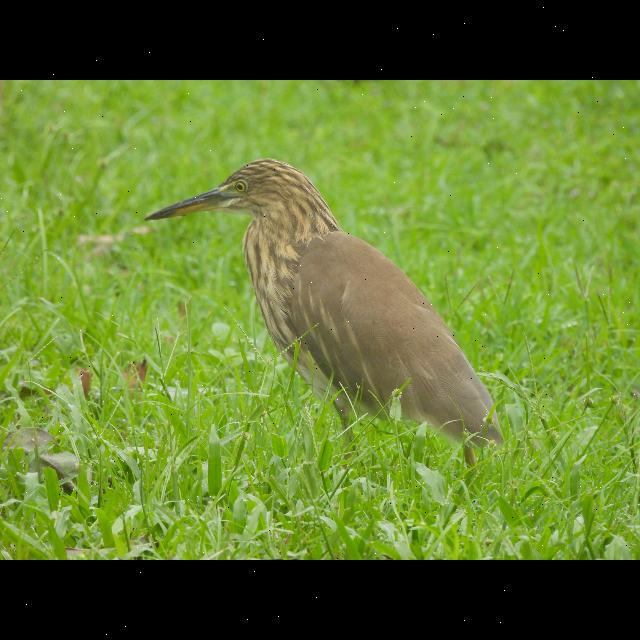heron: (142, 157, 502, 465)
